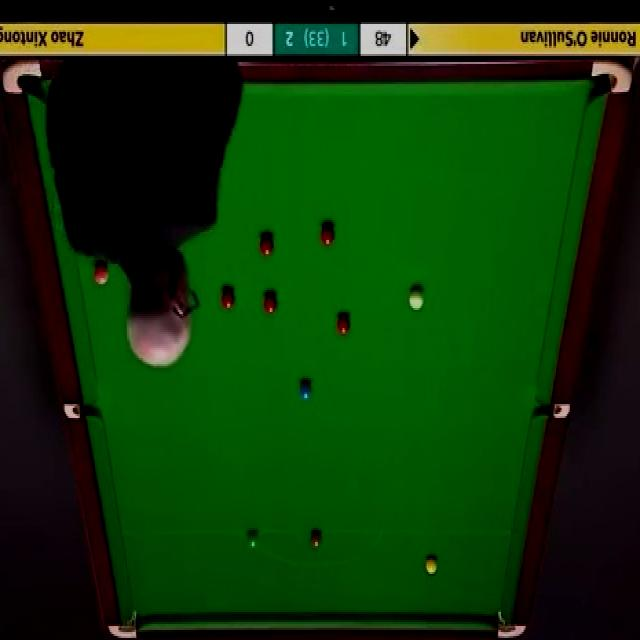black-ball: (309, 148, 324, 173)
blue-ball: (299, 381, 311, 404)
brown-ball: (309, 531, 323, 549)
pink-ball: (93, 265, 110, 287)
red-ball: (257, 232, 274, 260), (80, 228, 98, 252), (334, 314, 352, 335), (113, 240, 128, 265), (292, 206, 307, 230), (221, 288, 235, 312), (310, 192, 324, 215), (389, 266, 403, 289), (305, 213, 321, 233), (321, 222, 334, 246), (317, 241, 331, 262)
white-ball: (408, 334, 424, 358)
yellow-ball: (425, 554, 438, 576)
